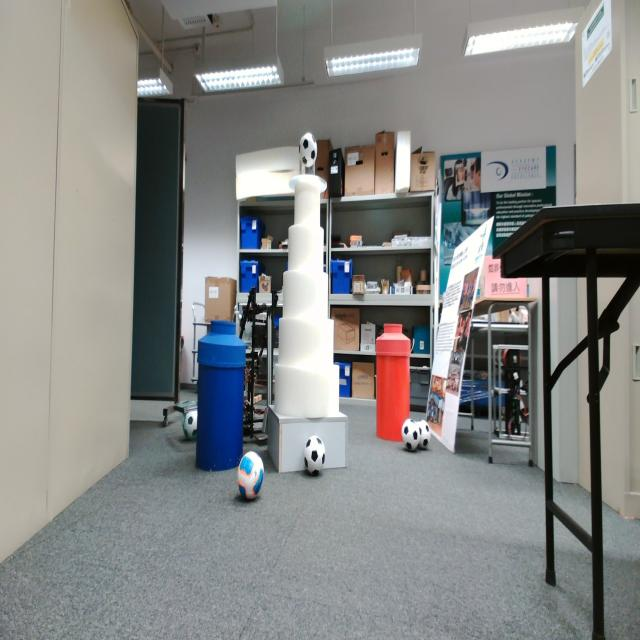ball: (239, 451, 264, 502), (304, 435, 326, 477), (298, 132, 316, 167), (183, 410, 198, 442), (403, 420, 418, 450), (418, 420, 431, 450)
